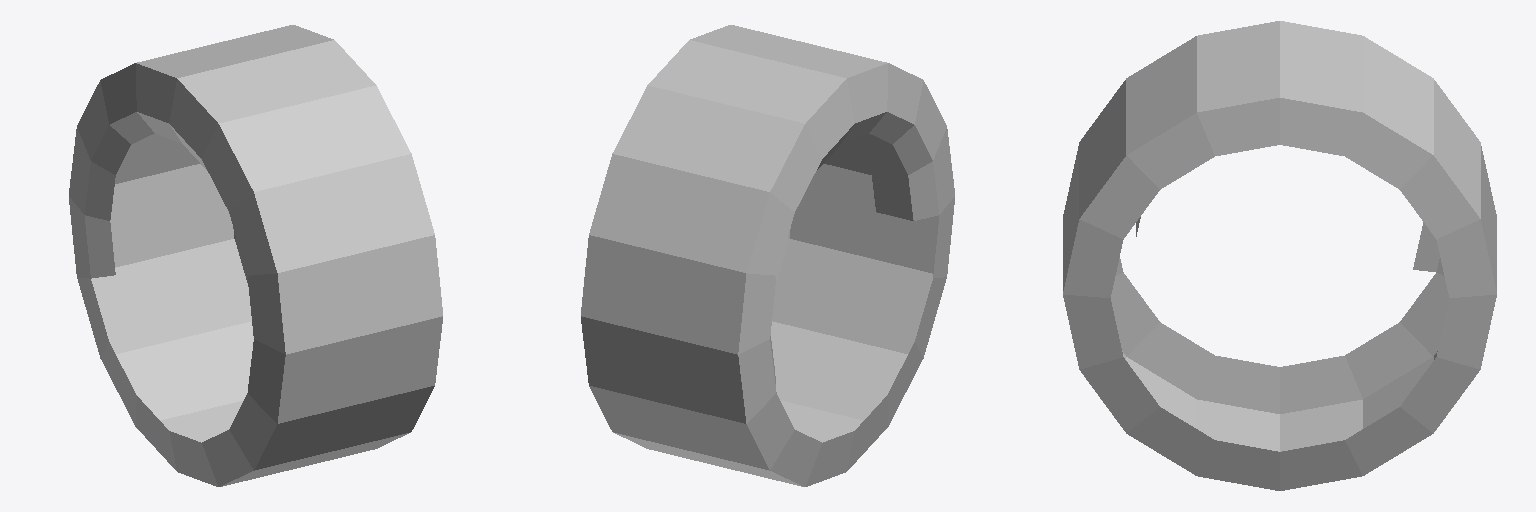
The model's file is rightTire.obj.
3 views of the same model, side by side, from view 1: azimuth 30°, elevation 25°; view 2: azimuth 150°, elevation 25°; view 3: azimuth 270°, elevation 25° (orthographic).
Visible parts, largest first — view 1: rightTire_Cube.002; view 2: rightTire_Cube.002; view 3: rightTire_Cube.002.
Boxes of the visible parts, box(x1,y1,x2,y2) form: rightTire_Cube.002: box(69, 25, 442, 486); rightTire_Cube.002: box(581, 25, 954, 486); rightTire_Cube.002: box(1063, 21, 1496, 490).
Size of the model in its own units: 0.3232 by 0.7003 by 0.7003.